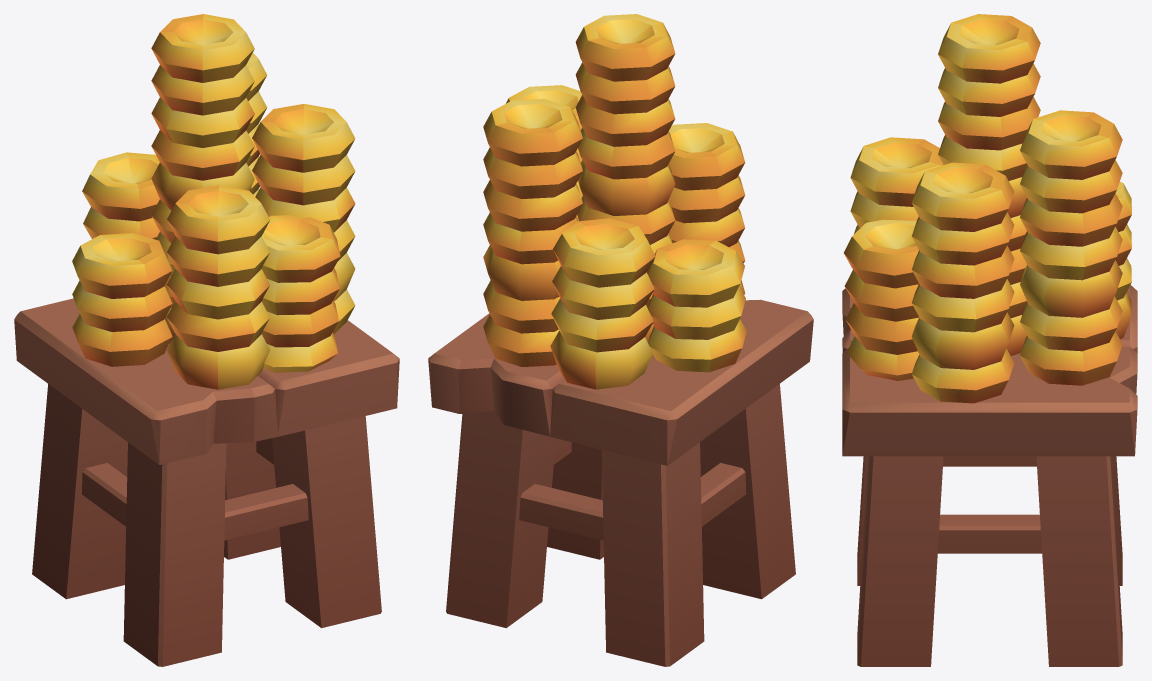
File: table_small_decorated_B.gltf
3 renders of one model, left to right at view 1: azimuth 30°, elevation 25°; view 2: azimuth 150°, elevation 25°; view 3: azimuth 270°, elevation 25°, orthographic. The views are drawn at different scales.
Parts seen in each view (by area): view 1: table_small_decorated_B; view 2: table_small_decorated_B; view 3: table_small_decorated_B.
Part boxes in pixels (<box>): table_small_decorated_B: <box>14,14,399,666</box>; table_small_decorated_B: <box>428,14,813,666</box>; table_small_decorated_B: <box>842,14,1137,666</box>.
Bounding box in the file's own units: 1.01 × 2.16 × 1.
Materials: 1 (1 with a texture image).
